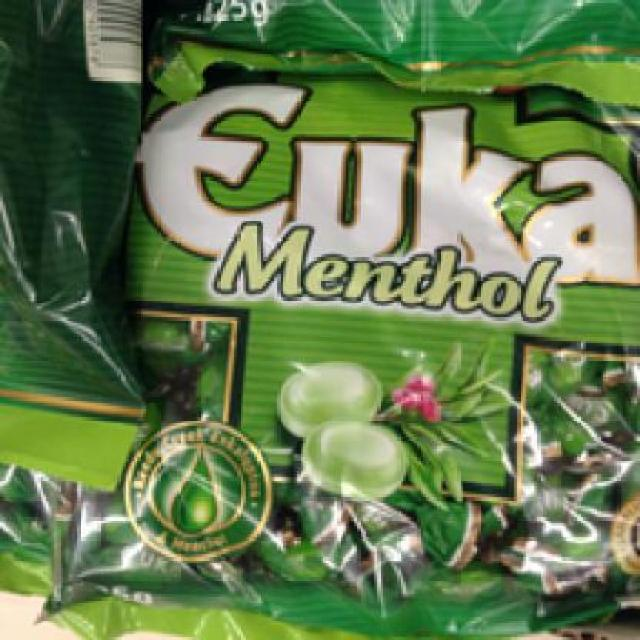Candy: (122, 39, 638, 612)
